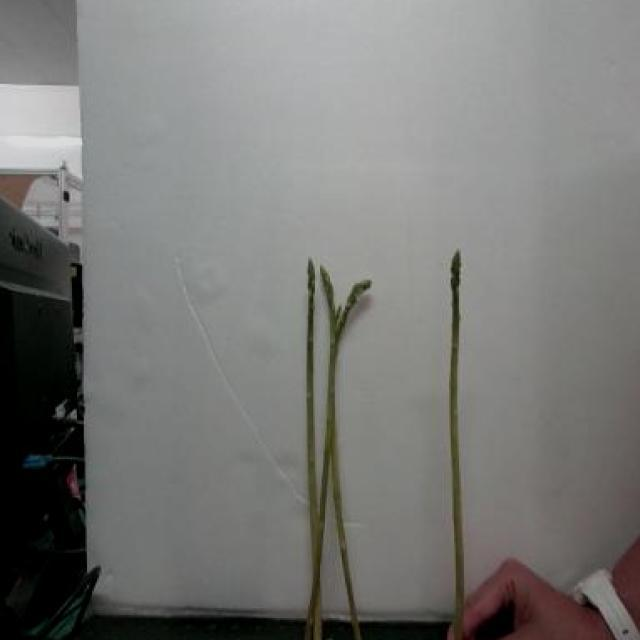aspargus: (450, 251, 466, 640)
